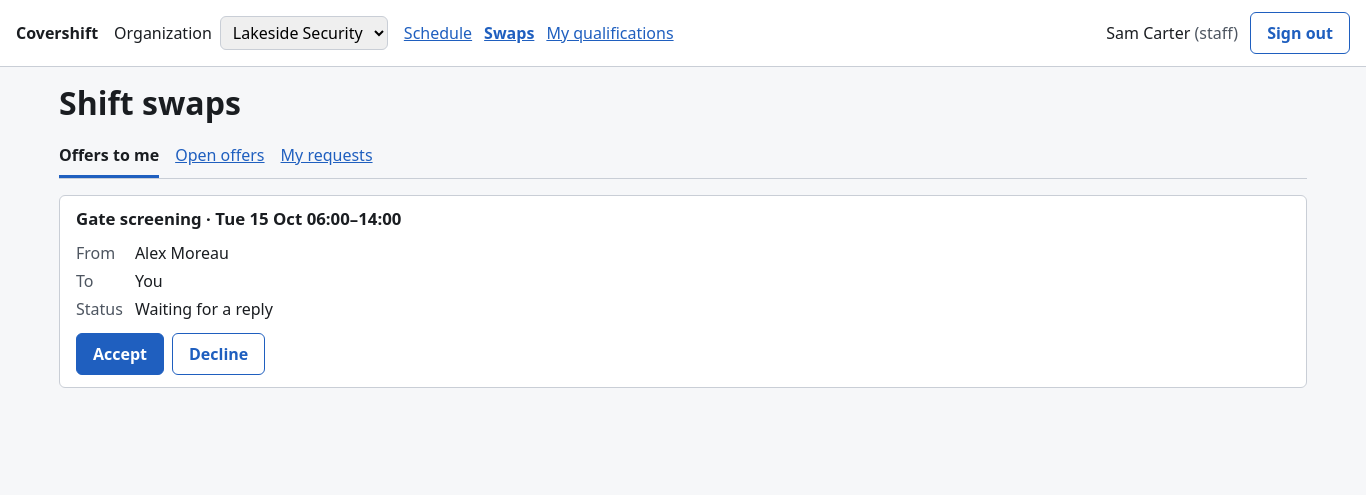
SwapsPage › a 422 CERTIFICATION_MISSING shows its title and the API reason verbatim
Click the button "Accept" at [120, 354], box [76,333,164,375]
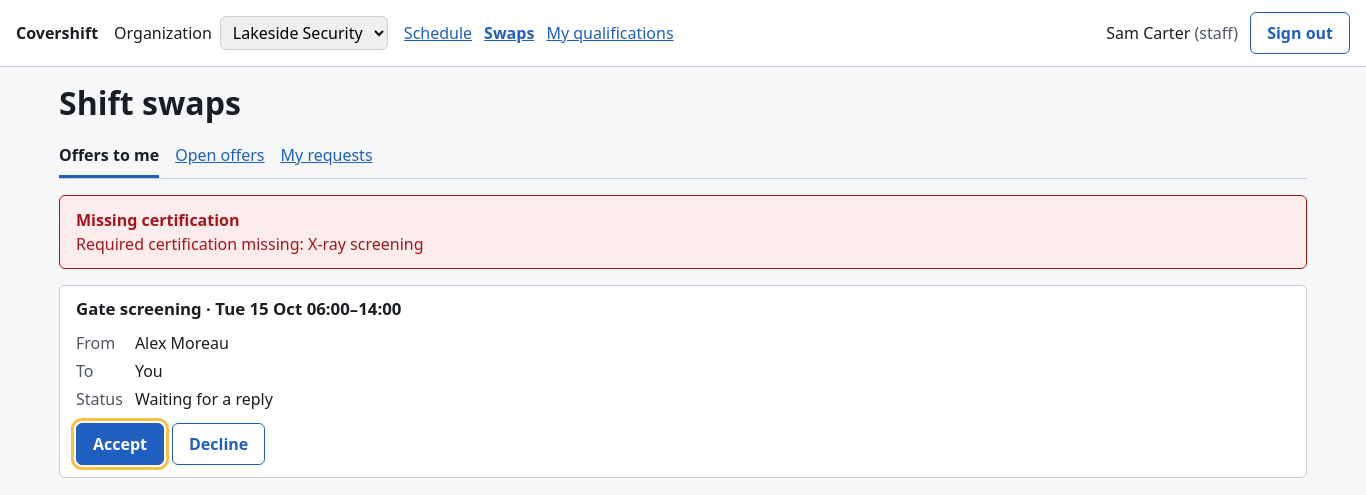
Now the message shows "Missing certification", box [76,209,240,231]
Now the message shows "Required certification missing: X-ray screening", box [76,233,424,255]
